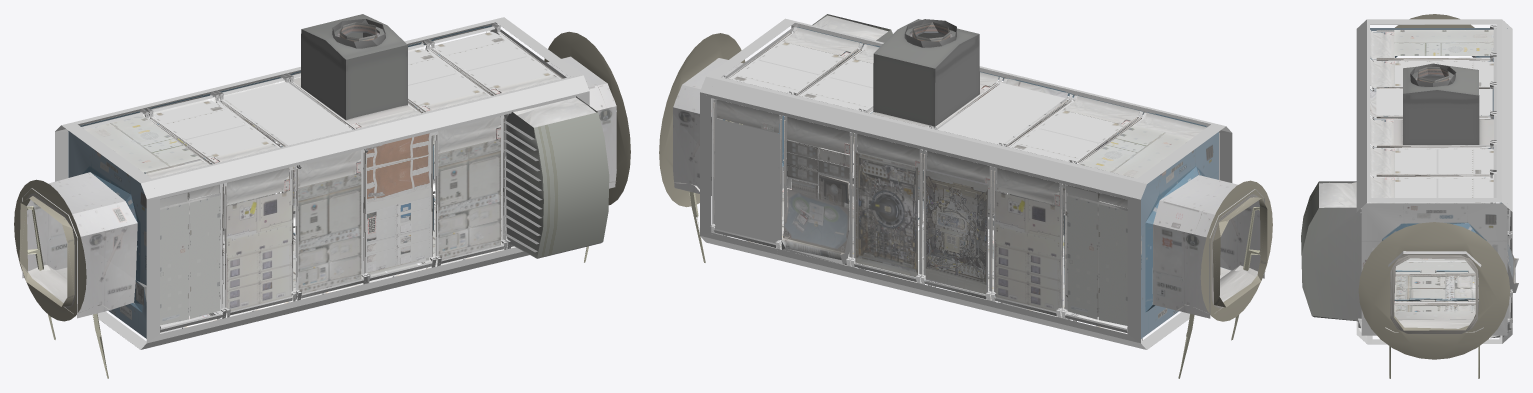
Rendered from us_lab.dae.
3 renders of one model, left to right at view 1: azimuth 30°, elevation 25°; view 2: azimuth 150°, elevation 25°; view 3: azimuth 270°, elevation 25°, orthographic. The views are drawn at different scales.
Parts seen in each view (by area): view 1: US_Lab_Int_AFT_Bulkhead; view 2: US_Lab_Int_AFT_Bulkhead; view 3: US_Lab_Int_AFT_Bulkhead.
Part boxes in pixels (<box>): US_Lab_Int_AFT_Bulkhead: <box>14,14,630,378</box>; US_Lab_Int_AFT_Bulkhead: <box>659,14,1272,378</box>; US_Lab_Int_AFT_Bulkhead: <box>1301,14,1518,378</box>.
Size of the model in its own units: 7.98 by 3.21 by 3.62.
8 materials, 8 textured.
